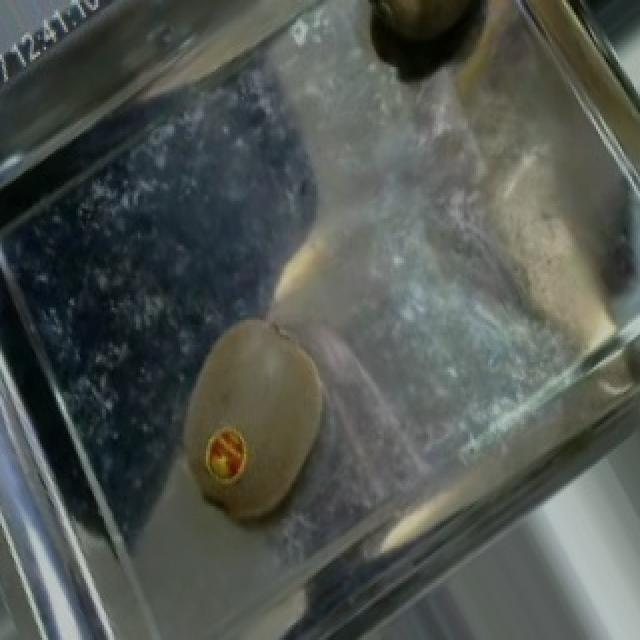Fruit: (160, 288, 358, 550)
